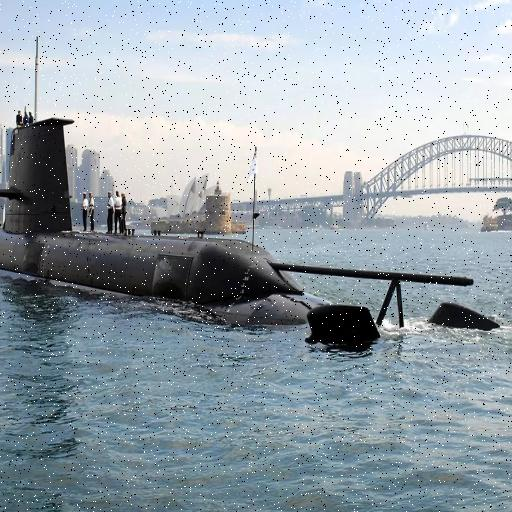submarine: (1, 19, 508, 356)
